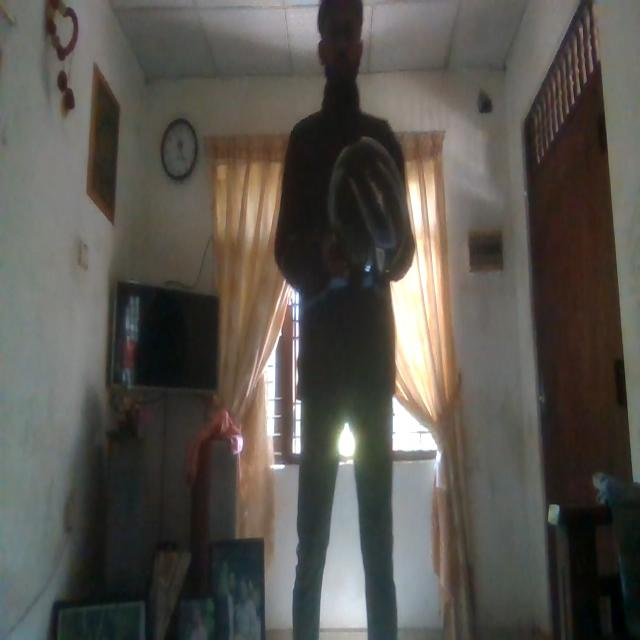Jacket_Wearer: (284, 95, 412, 398)
Person: (284, 2, 419, 640)
